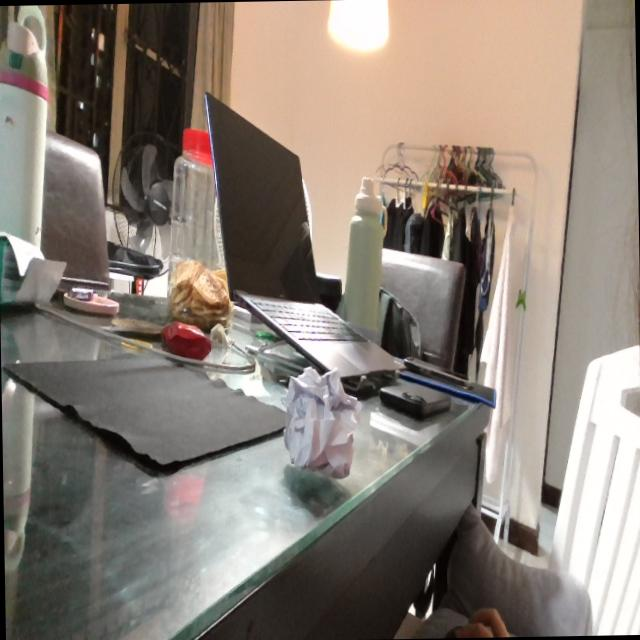crumpled_paper: (279, 360, 359, 480)
